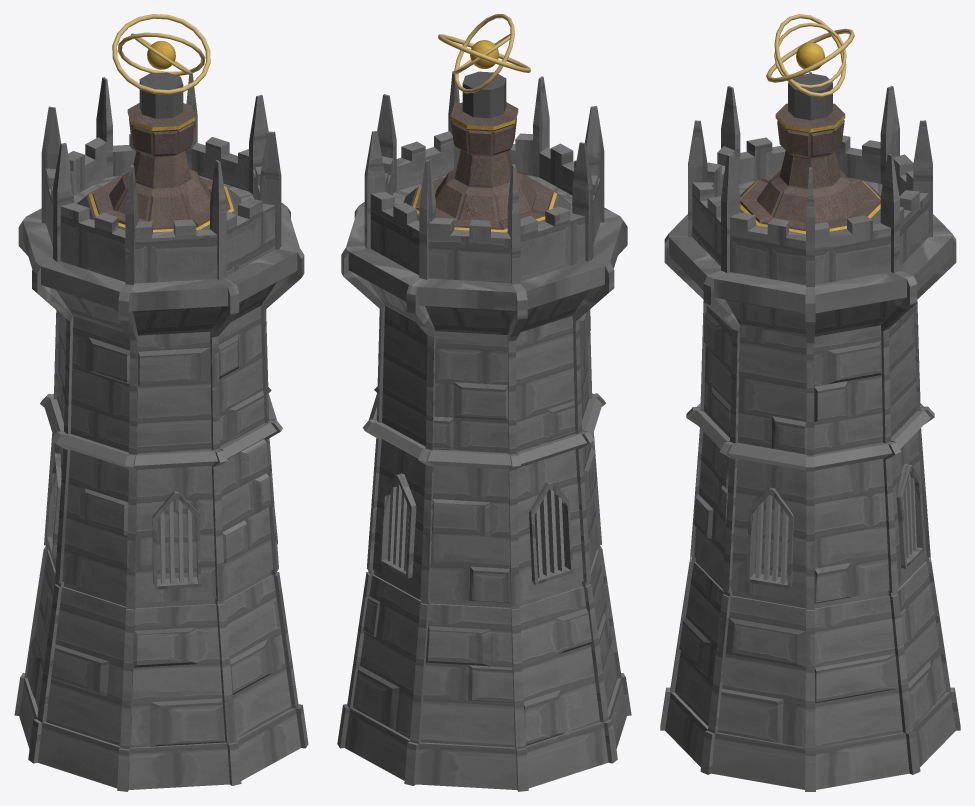
File: att3_slow.fbx
3 renders of one model, left to right at view 1: azimuth 30°, elevation 25°; view 2: azimuth 150°, elevation 25°; view 3: azimuth 270°, elevation 25°, orthographic.
Visible parts, largest first — view 1: polySurface87; view 2: polySurface87; view 3: polySurface87.
Boxes of the visible parts, left/top/right/bottom form: polySurface87: left=14, top=14, right=308, bottom=791; polySurface87: left=337, top=14, right=631, bottom=791; polySurface87: left=660, top=14, right=960, bottom=791.
Bounding box in the file's own units: 13.87 × 35.91 × 13.87.
7 materials, 6 textured.
